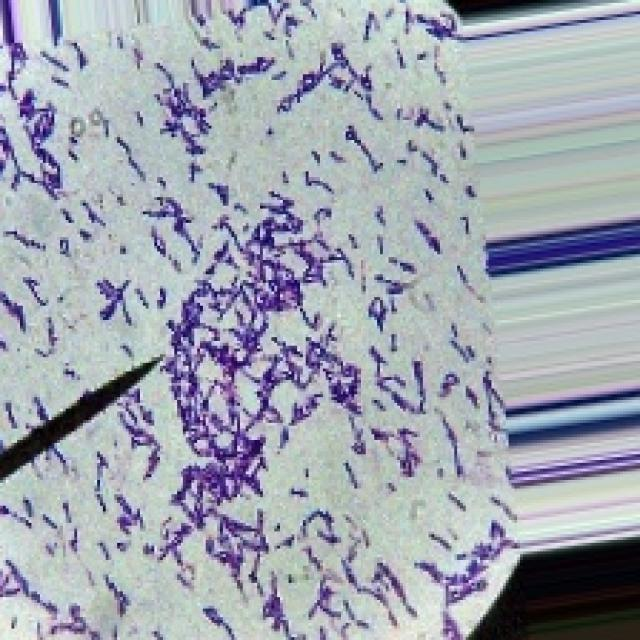Spiral_bacteria: (0, 0, 523, 637)
